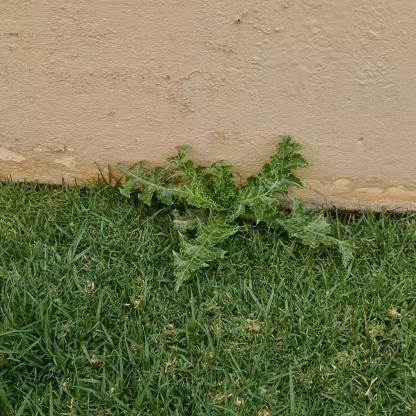Weeds: (116, 133, 359, 292)
